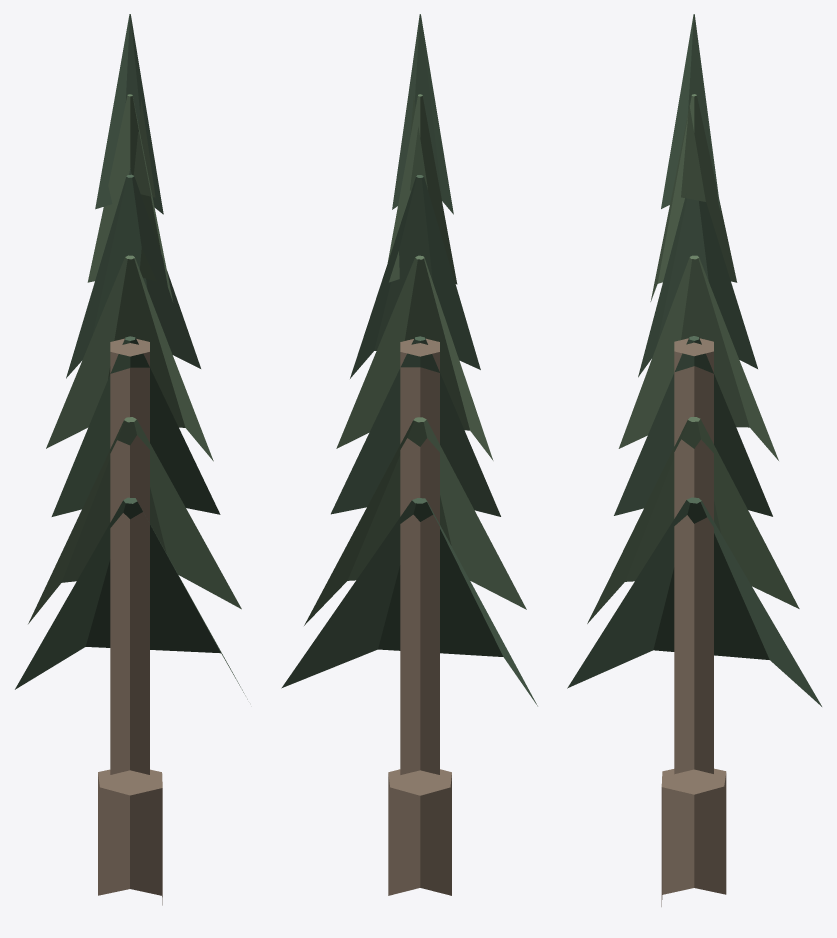
The model's file is shu.yunshan__spring.glb.
The picture shows the model from 3 angles, left to right: view 1: azimuth 30°, elevation 25°; view 2: azimuth 150°, elevation 25°; view 3: azimuth 270°, elevation 25°; orthographic projection.
Visible parts, largest first — view 1: shu.yunshan__spring; view 2: shu.yunshan__spring; view 3: shu.yunshan__spring.
Boxes of the visible parts, x1=… form: shu.yunshan__spring: x1=15, y1=14, x2=247, y2=905; shu.yunshan__spring: x1=281, y1=14, x2=537, y2=895; shu.yunshan__spring: x1=567, y1=14, x2=821, y2=906.
Bounding box in the file's own units: 4.5 × 17.97 × 4.69.
